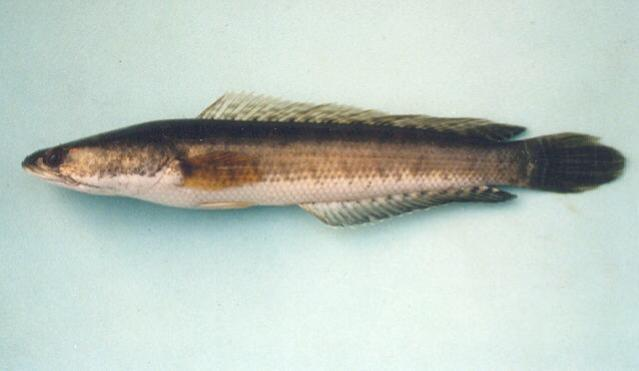Mulut: (5, 136, 90, 210)
Sirip Anal: (292, 179, 526, 234)
Sirip Dada: (160, 140, 284, 199)
Sirip Ekor: (504, 113, 634, 209)
Sirip Perut: (190, 194, 262, 226)
Sirip Punggung: (187, 82, 533, 157)
